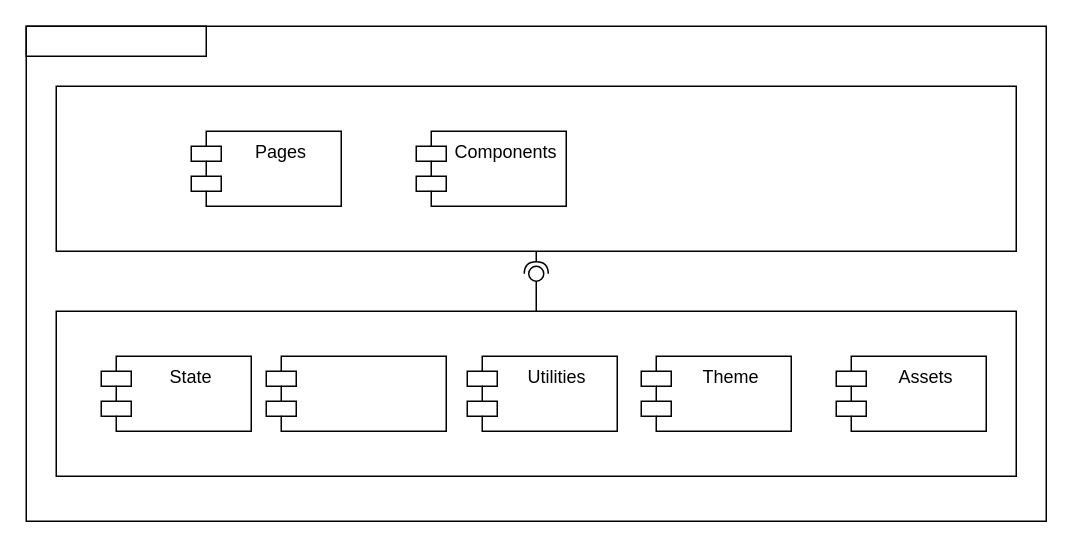
Image size: 1073x548. Some labels were removed from this diagram. The shapes that lost their labels are listed below. From the top down, each one's centre as x and y in pixels, then its label:
At (x=115, y=40): "favoritetechnologies".
At (x=355, y=393): "ProviderServices".
